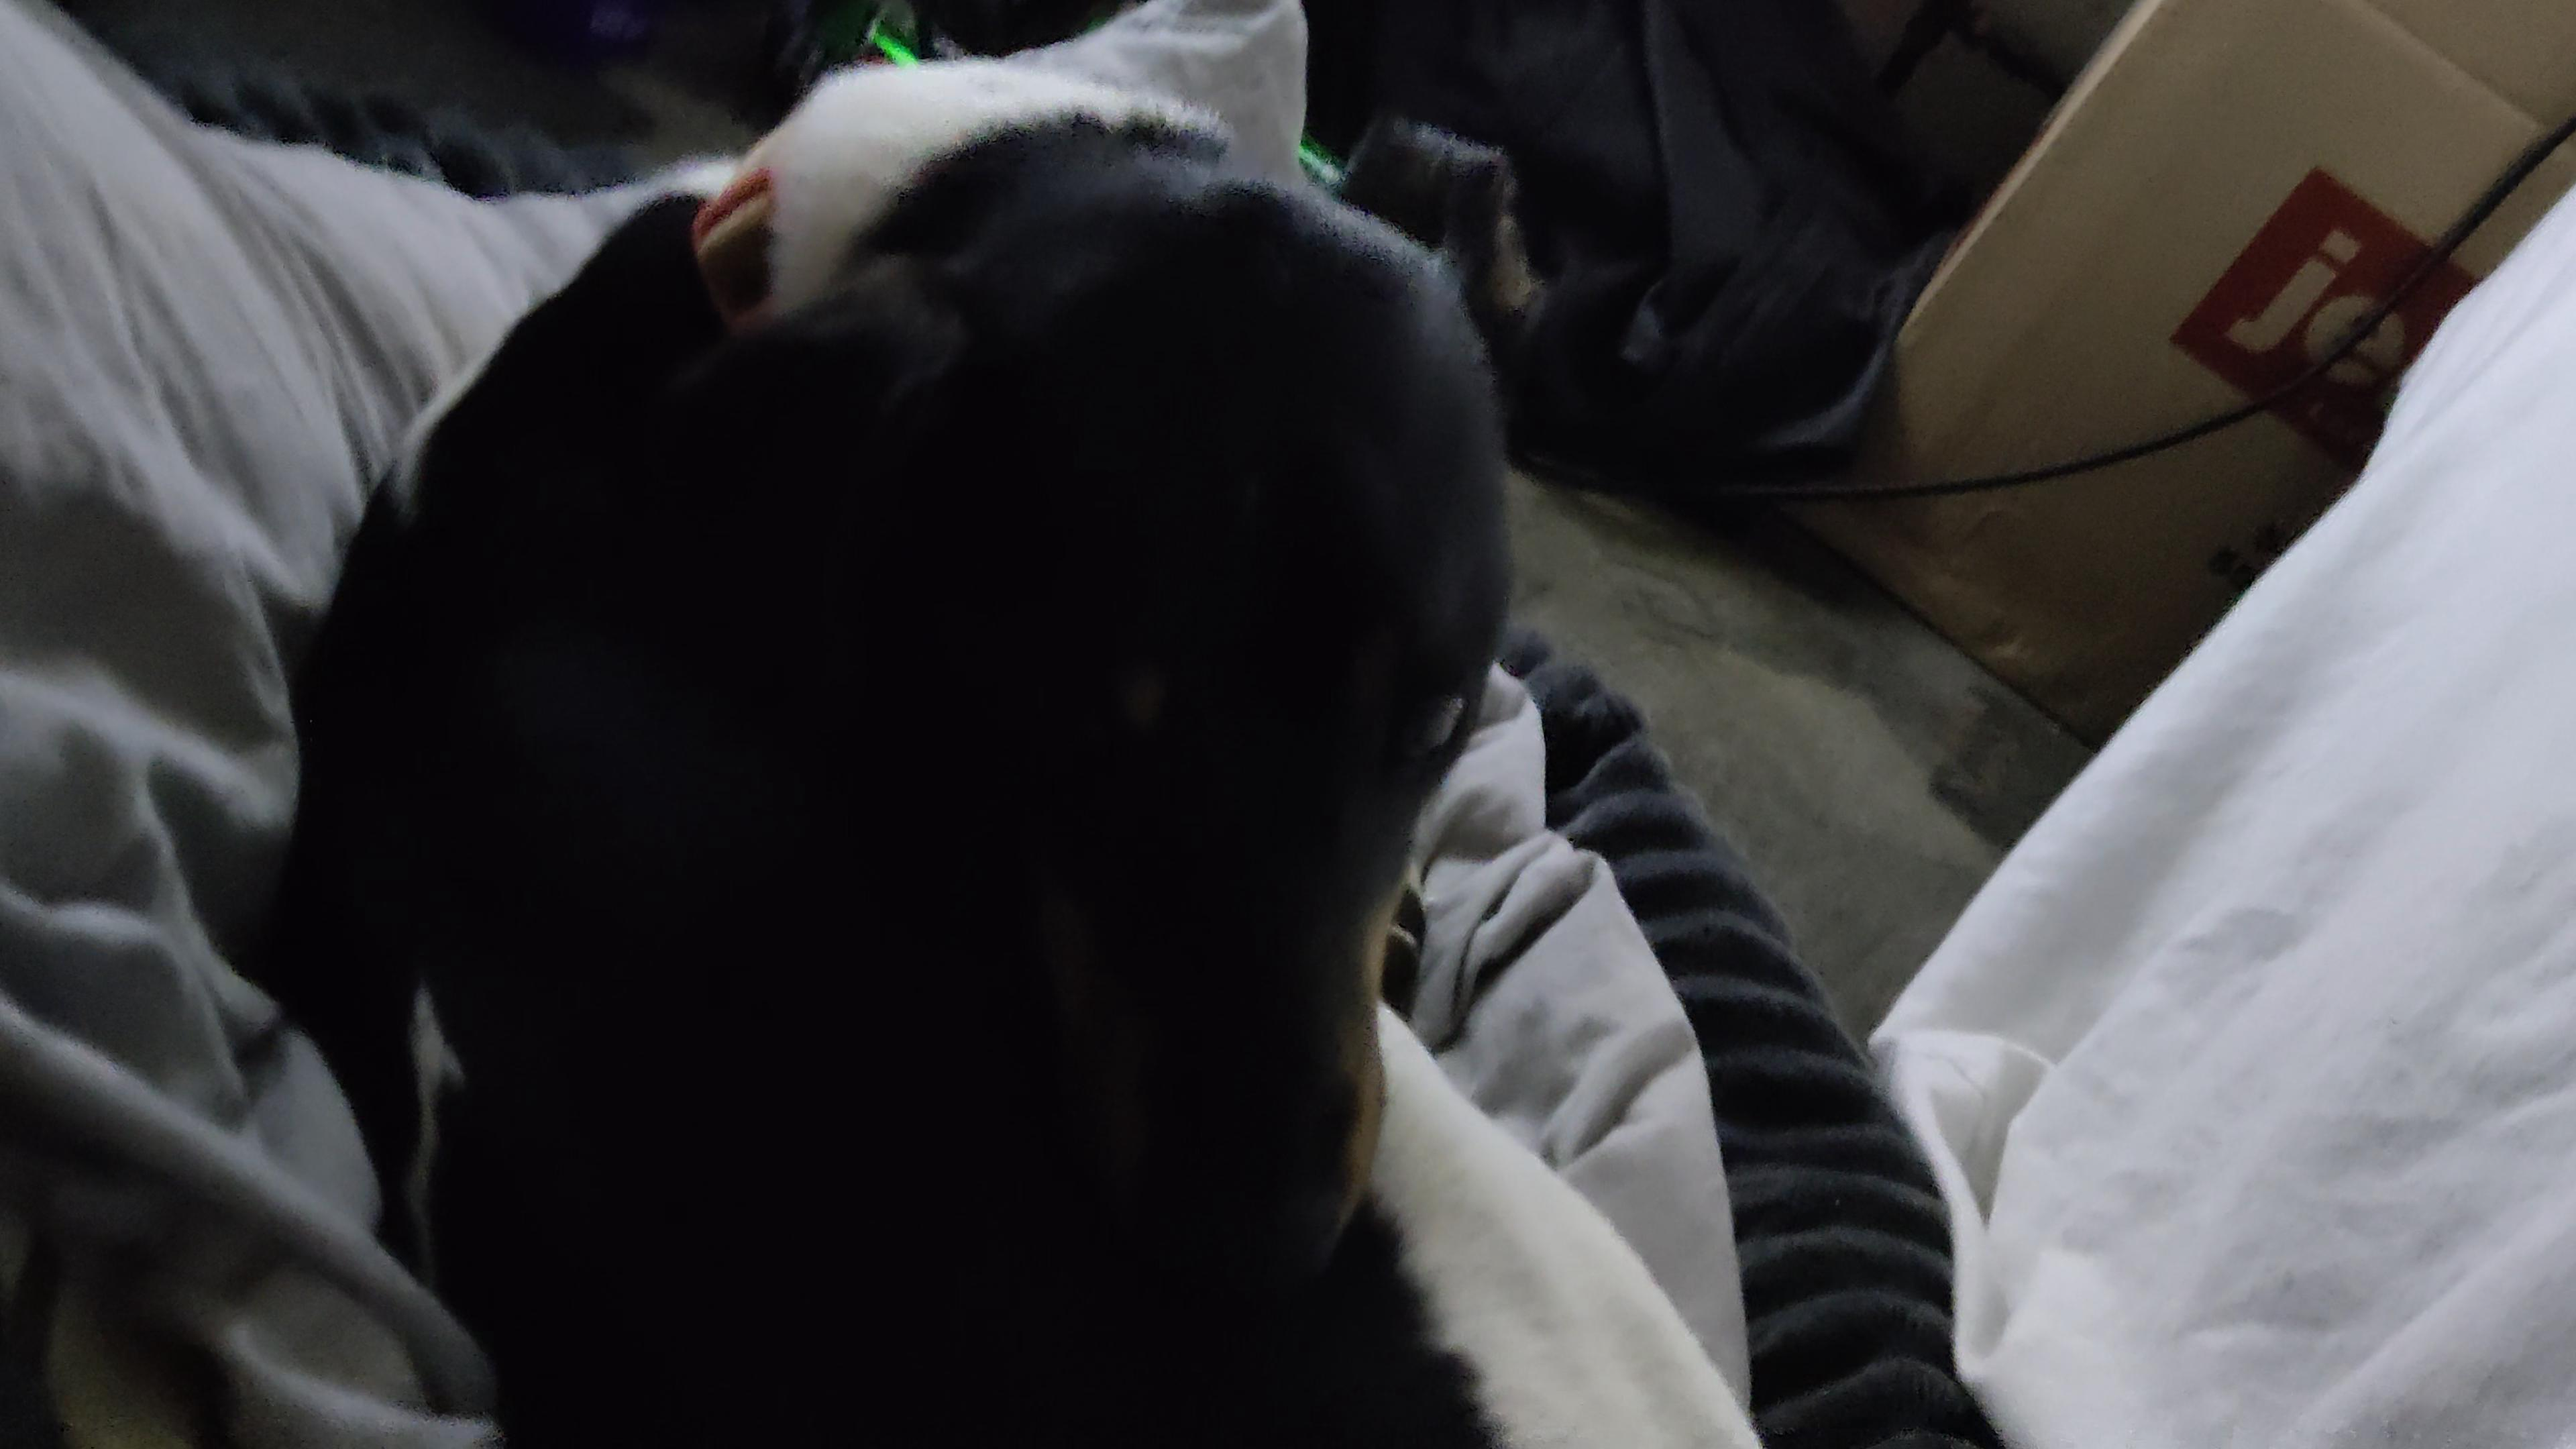Dog: (269, 39, 1776, 1449)
